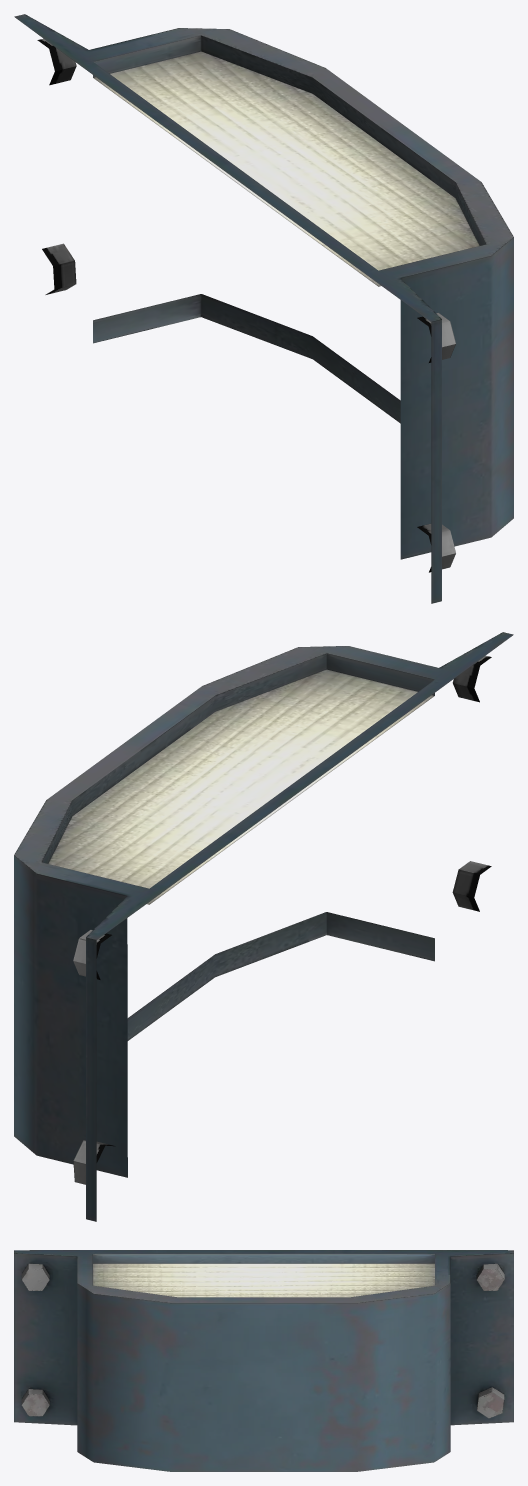
3 renders of one model, top to bottom at view 1: azimuth 30°, elevation 25°; view 2: azimuth 150°, elevation 25°; view 3: azimuth 270°, elevation 25°, orthographic. The views are drawn at different scales.
Parts seen in each view (by area): view 1: body0_model0_lod0_mesh0; view 2: body0_model0_lod0_mesh0; view 3: body0_model0_lod0_mesh0.
Part boxes in pixels (<box>): body0_model0_lod0_mesh0: <box>14,14,513,603</box>; body0_model0_lod0_mesh0: <box>14,632,513,1221</box>; body0_model0_lod0_mesh0: <box>14,1250,513,1471</box>.
Bounding box in the file's own units: 6.91 × 10.24 × 27.48.
1 material, 1 textured.
